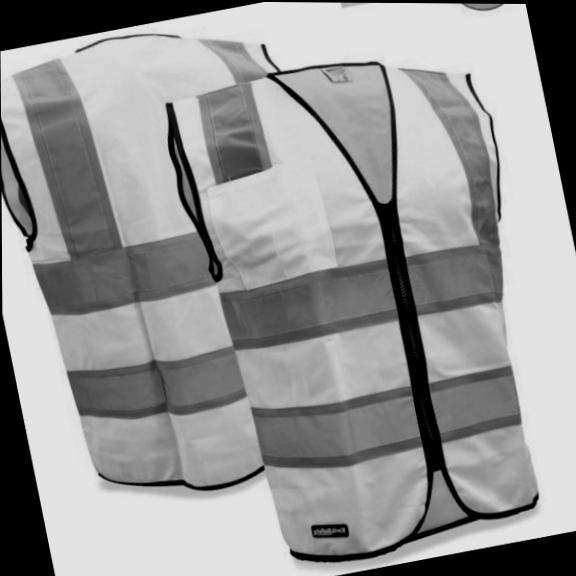safety_vest: (157, 31, 570, 576), (0, 5, 361, 520)
